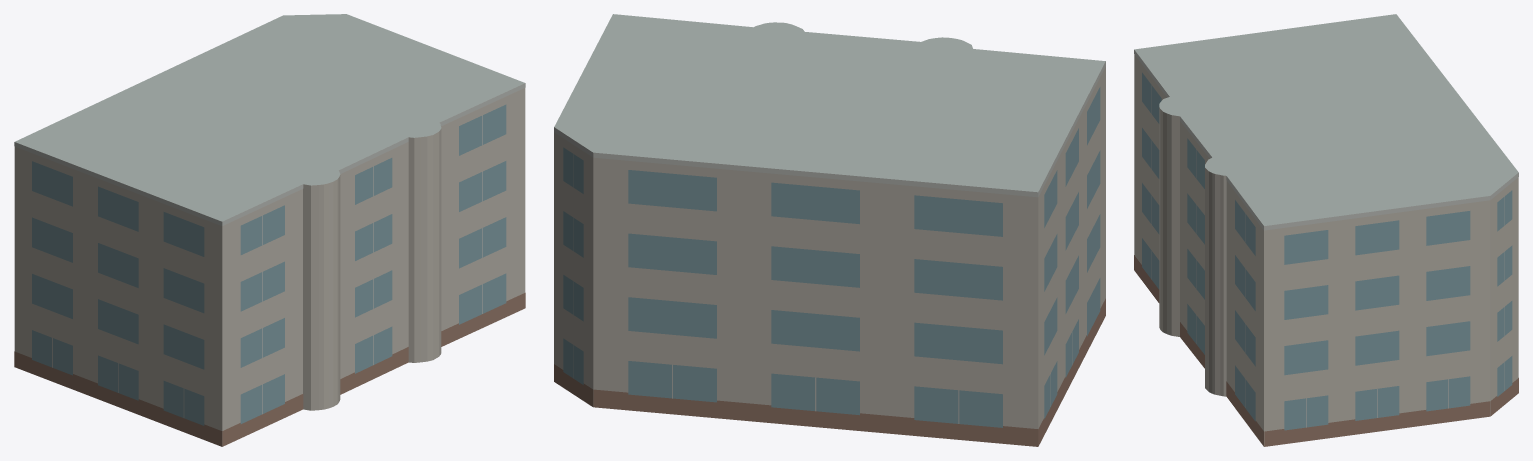
Rendered from survey-upis-32835387.glb.
The picture shows the model from 3 angles, left to right: view 1: azimuth 30°, elevation 25°; view 2: azimuth 150°, elevation 25°; view 3: azimuth 270°, elevation 25°; orthographic projection. The views are drawn at different scales.
Visible parts, largest first — view 1: survey-upis-32835387.tmp; view 2: survey-upis-32835387.tmp; view 3: survey-upis-32835387.tmp.
Boxes of the visible parts, x1=… form: survey-upis-32835387.tmp: x1=14, y1=14, x2=525, y2=446; survey-upis-32835387.tmp: x1=554, y1=14, x2=1105, y2=446; survey-upis-32835387.tmp: x1=1134, y1=14, x2=1518, y2=446.
Size of the model in its own units: 25.16 by 12.2 by 19.28.
